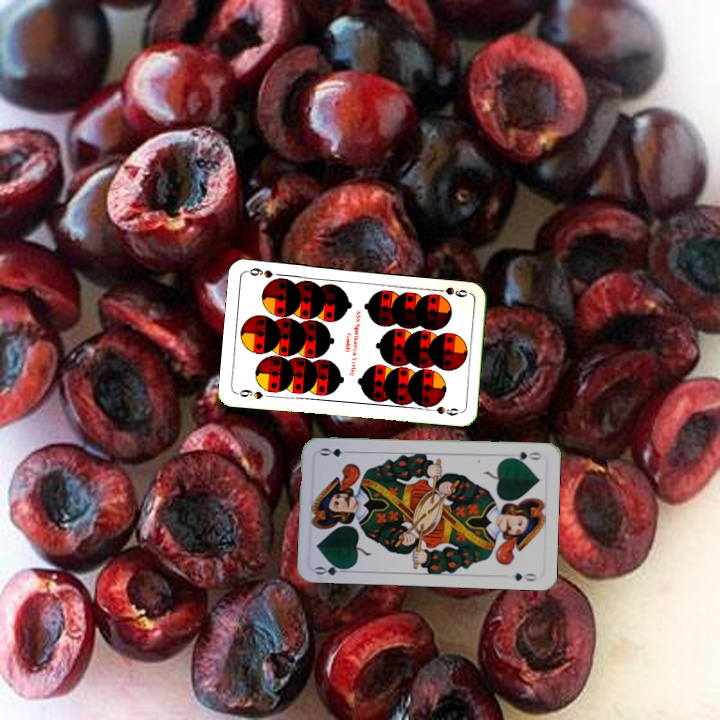GO: (311, 559, 352, 578), (504, 447, 543, 464)
S9: (431, 283, 470, 300), (233, 385, 265, 402)
